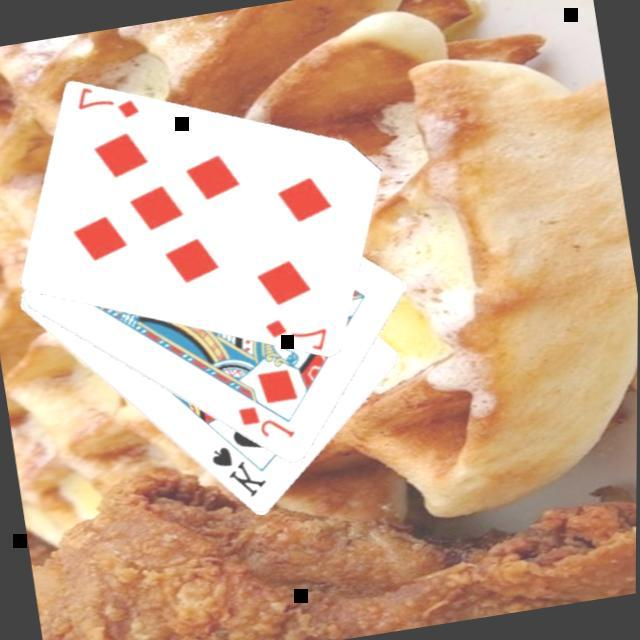7D: (258, 307, 332, 359), (70, 79, 142, 129)
JD: (232, 396, 298, 451)
KS: (204, 437, 271, 507)
